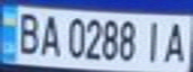0: (63, 13, 87, 60)
2: (81, 15, 106, 61)
8: (118, 17, 142, 63), (100, 16, 121, 62)
A: (160, 18, 193, 64), (36, 11, 63, 56)
B: (9, 9, 42, 56)
I: (139, 17, 169, 64)
